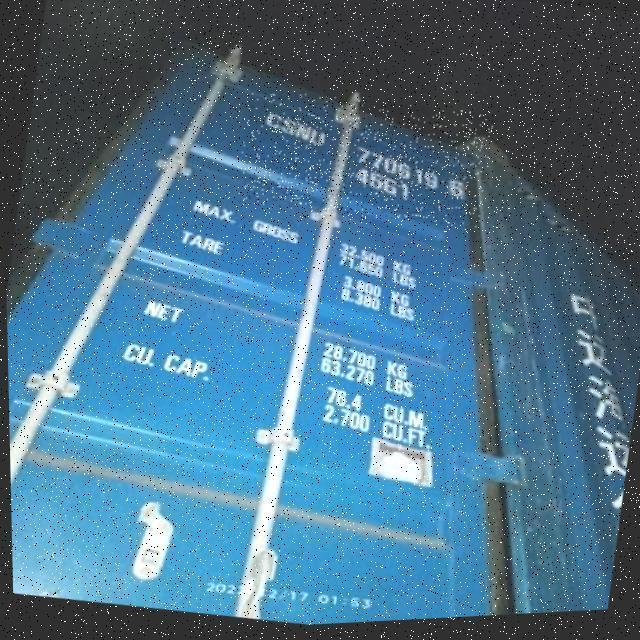container_number_h: (232, 81, 497, 244)
